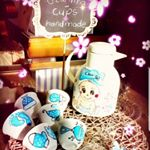cups: (1, 107, 35, 144), (56, 116, 89, 150), (22, 121, 58, 150)
